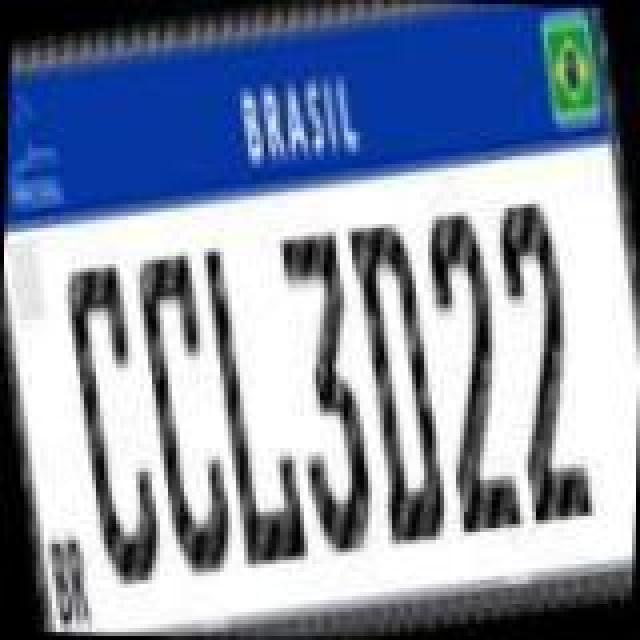2: (404, 206, 536, 546), (472, 186, 604, 526)
3: (258, 222, 394, 558)
C: (48, 250, 176, 590), (118, 240, 242, 580)
D: (334, 210, 462, 550)
L: (188, 236, 316, 572)
